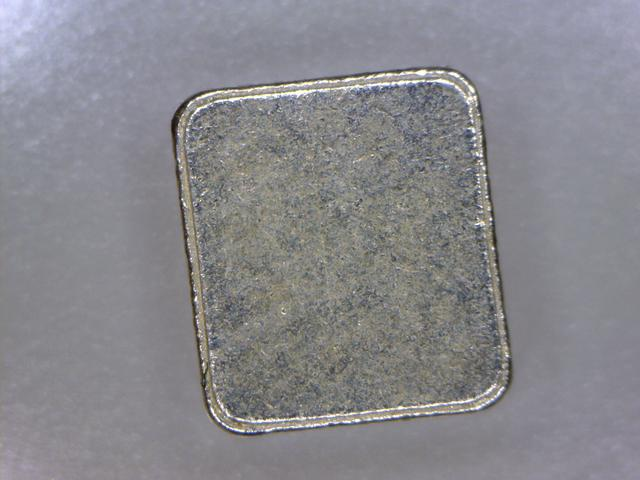nok: (151, 60, 557, 439)
